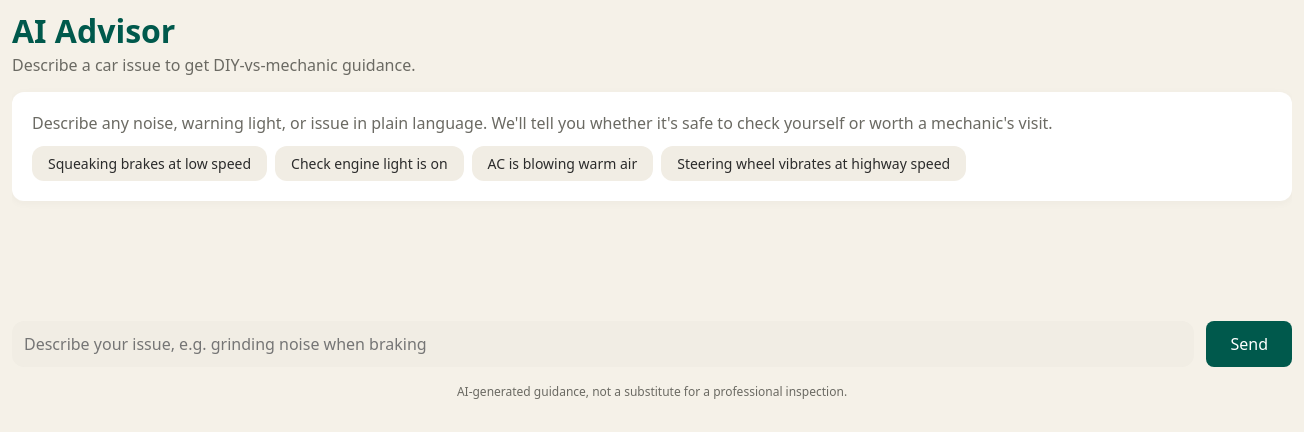
AIAdvisorPage — chatting › sends a message and shows a DIY response with numbered steps (normal case)
Type "Washer fluid light is on" into the field with placeholder "Describe your issue, e.g. grinding noise when braking" at (603, 344), box [12,321,1194,367]
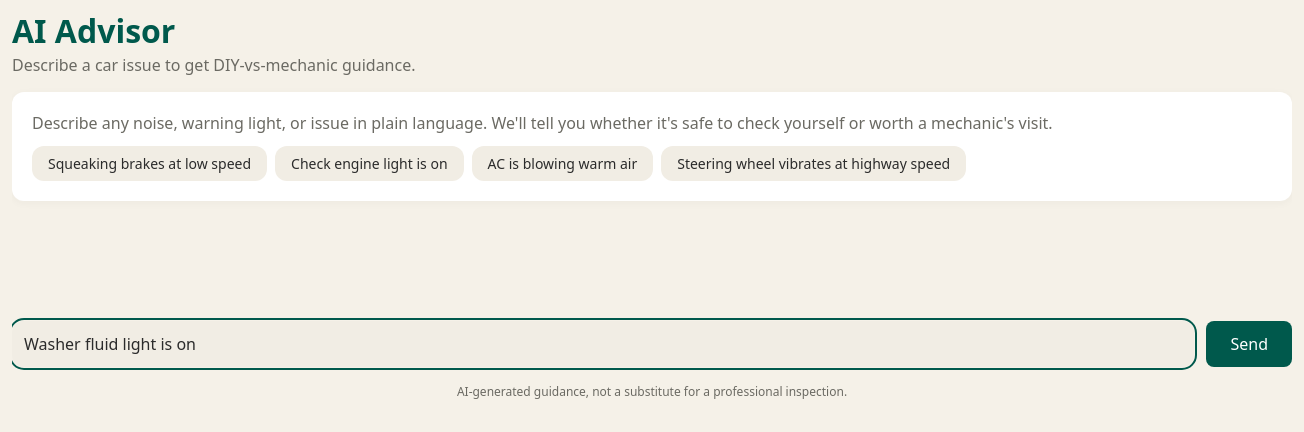
Click the button "Send" at (1249, 344), box [1206,321,1292,367]
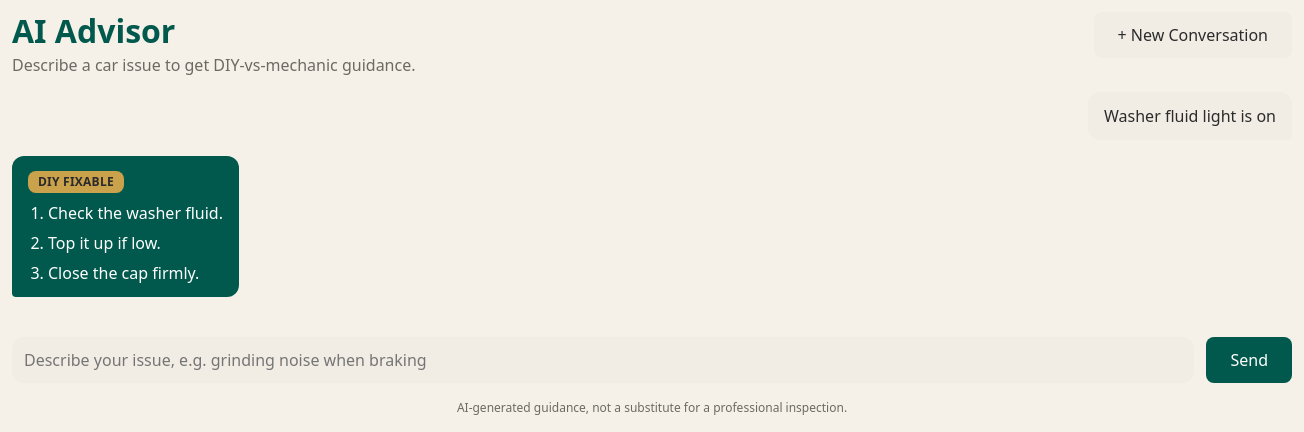
Check: the text "Washer fluid light is on" is shown, box [1088,92,1292,140]
Check: the text "DIY Fixable" is shown, box [28,171,124,193]
Check: the list item "Check the washer fluid." is shown, box [48,201,223,225]
